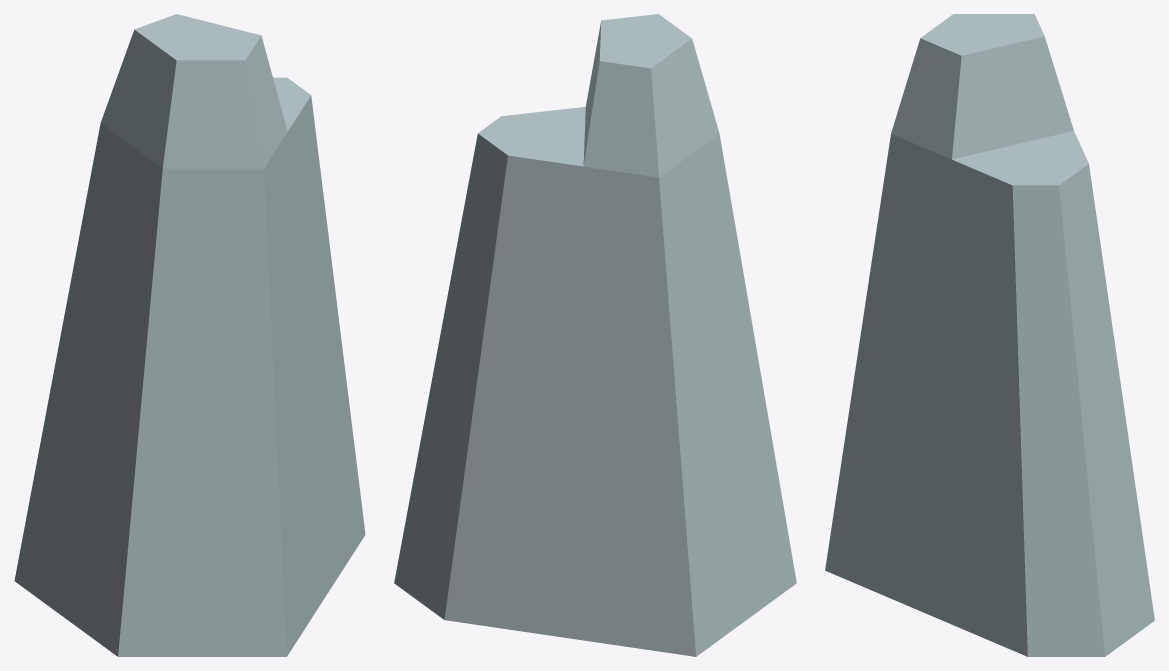
The model's file is stone_tallC.glb.
3 views of the same model, side by side, from view 1: azimuth 30°, elevation 25°; view 2: azimuth 150°, elevation 25°; view 3: azimuth 270°, elevation 25° (orthographic). The views are drawn at different scales.
Parts seen in each view (by area): view 1: stone_tallC; view 2: stone_tallC; view 3: stone_tallC.
Boxes of the visible parts, <box> form: stone_tallC: <box>14,14,365,656</box>; stone_tallC: <box>394,14,796,656</box>; stone_tallC: <box>825,14,1154,656</box>.
Bounding box in the file's own units: 0.4562 × 0.7829 × 0.4365.
